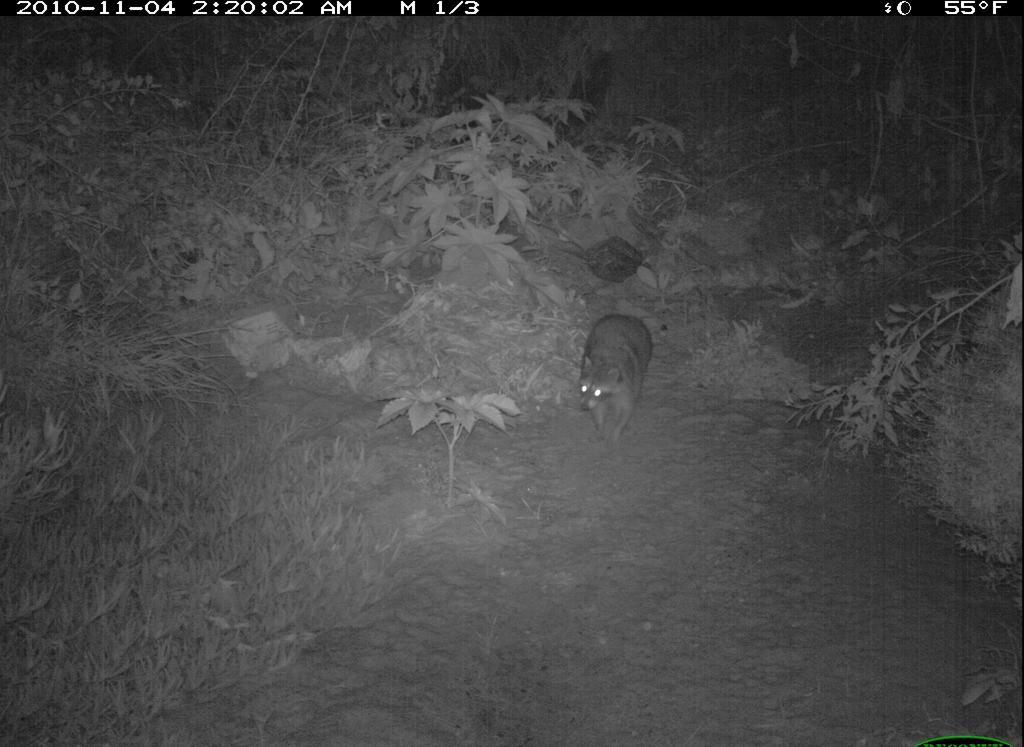raccoon: (571, 309, 660, 450)
